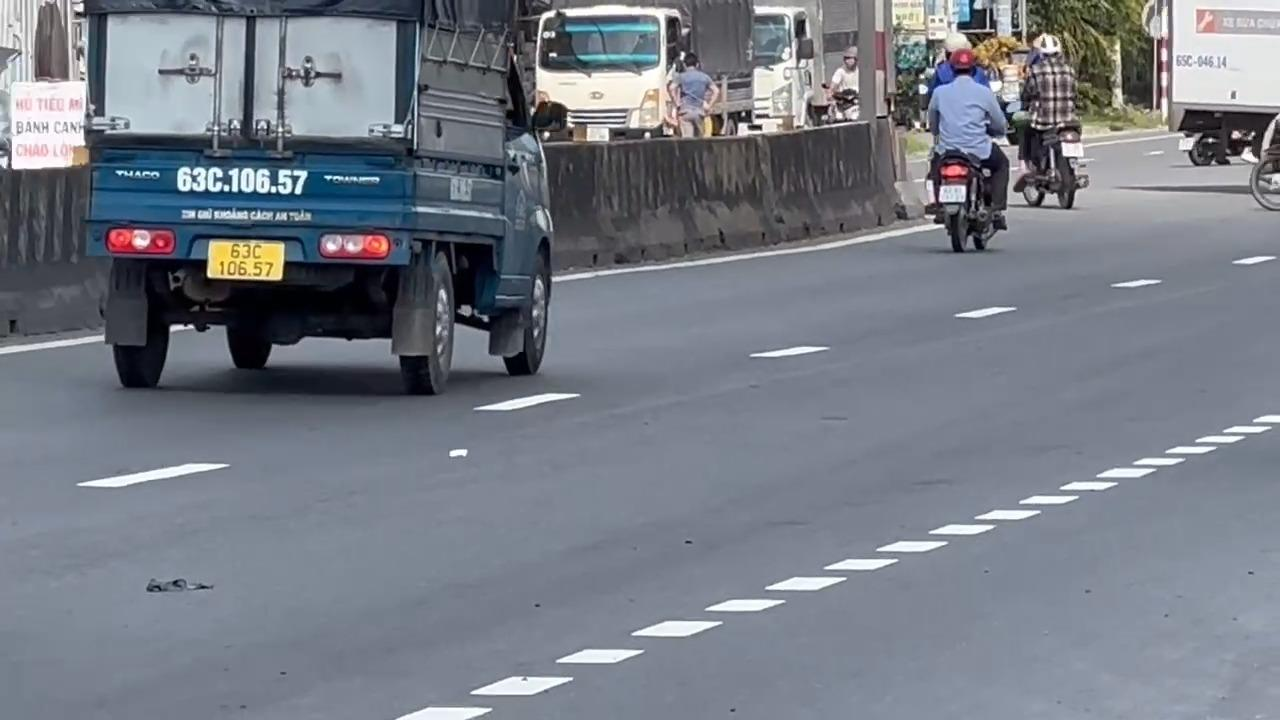bien_so: (205, 238, 285, 281)
